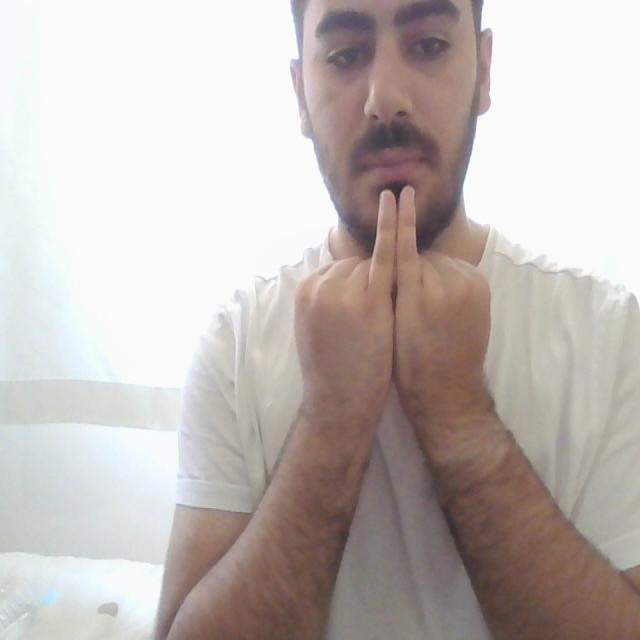Kardes: (291, 180, 495, 442)
